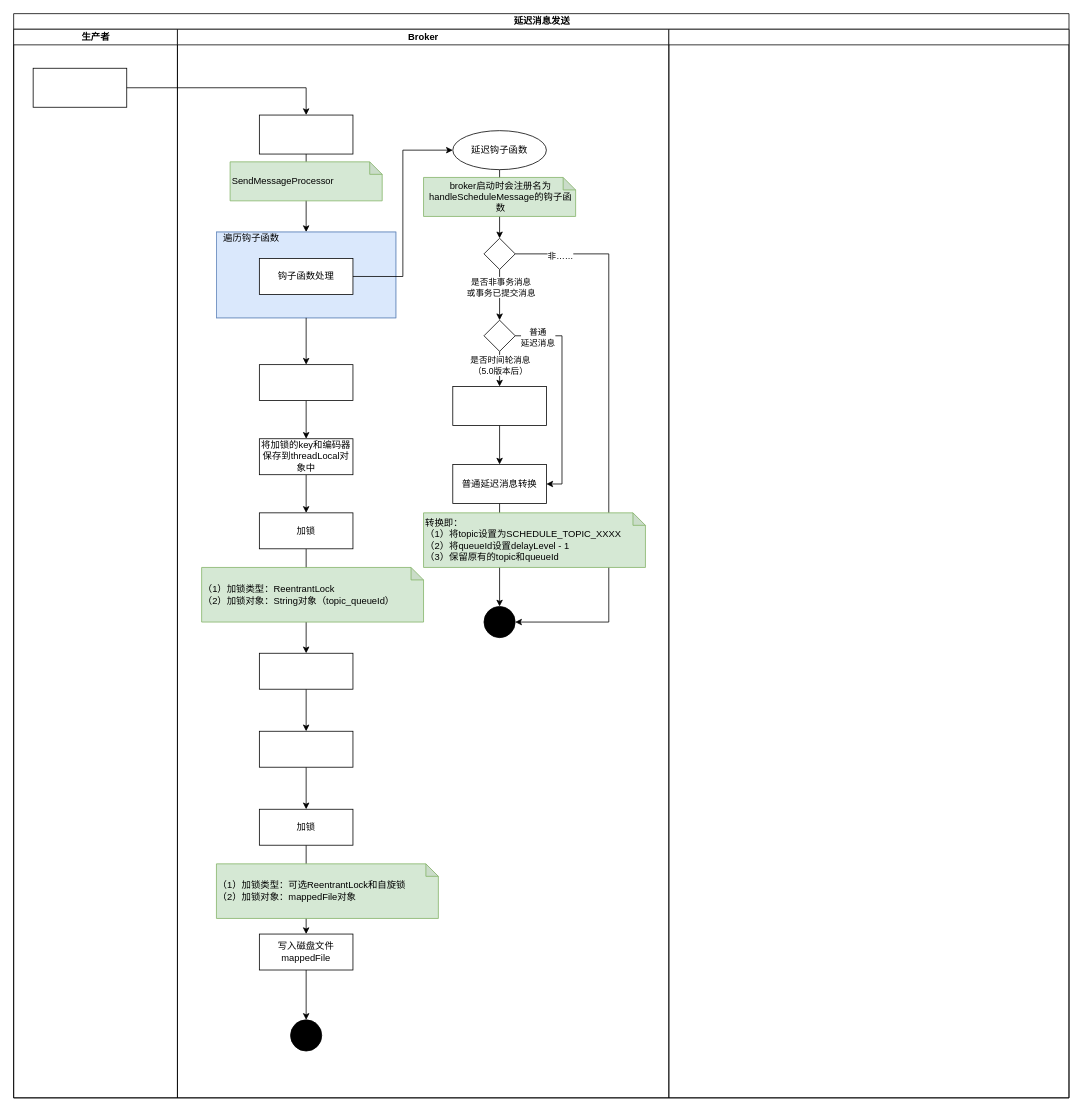
This 1083x1112 diagram has some shape labels left out. The centre of each missing label's shape, as x and y in pixels:
分配消息偏移量: the point at 306,670
匹配消息处理器: the point at 306,134
发送消息: the point at 79,87
定时任务: the point at 868,563
时间轮延迟消息转换: the point at 499,405
消息编码: the point at 306,748
设置存储时间为当前时间: the point at 306,382
